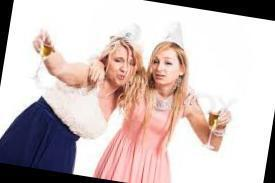Drunk: (151, 49, 178, 86), (111, 47, 135, 85)
